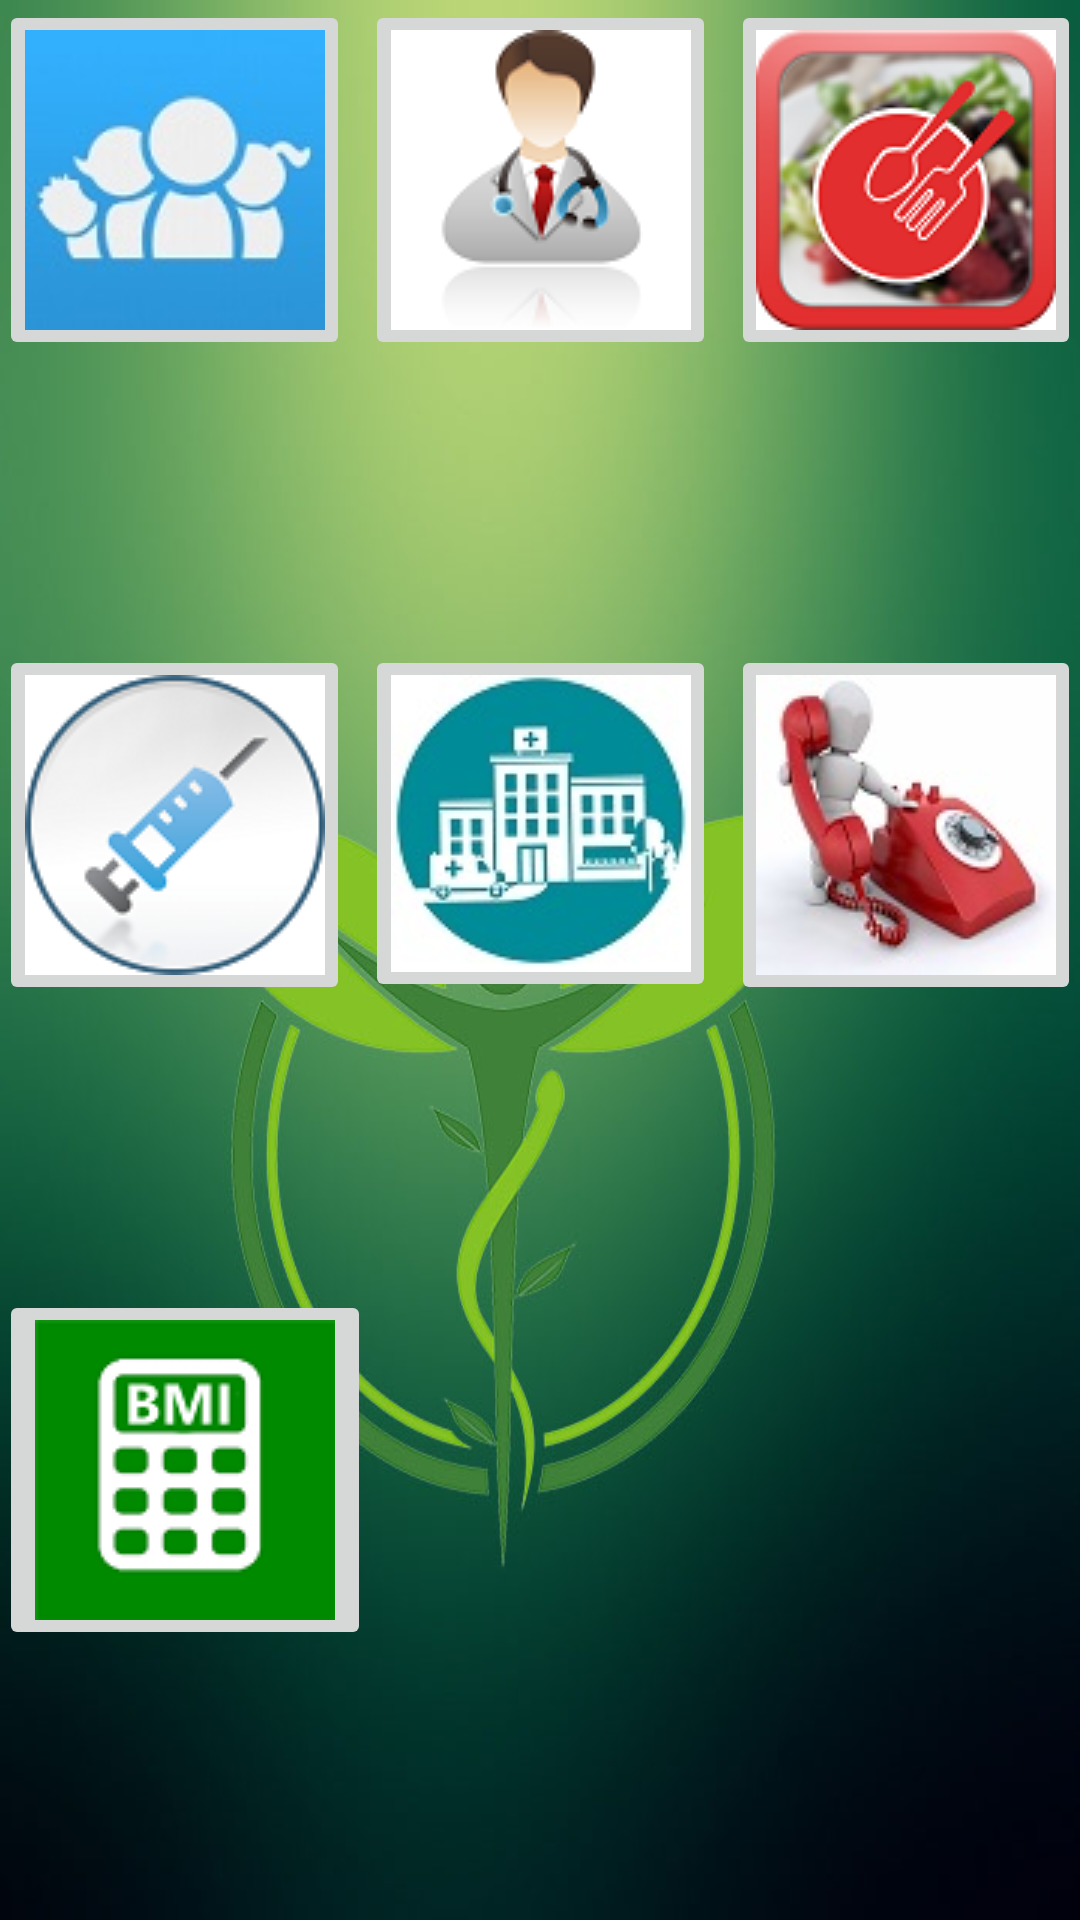

Icons on this 1080px x 1920px Android screen, each with the point to tap as point (x, y):
diet: point (905, 180)
doc: point (540, 180)
emargency no: point (905, 825)
family: point (175, 180)
helthcare: point (540, 823)
vaccin: point (175, 825)
